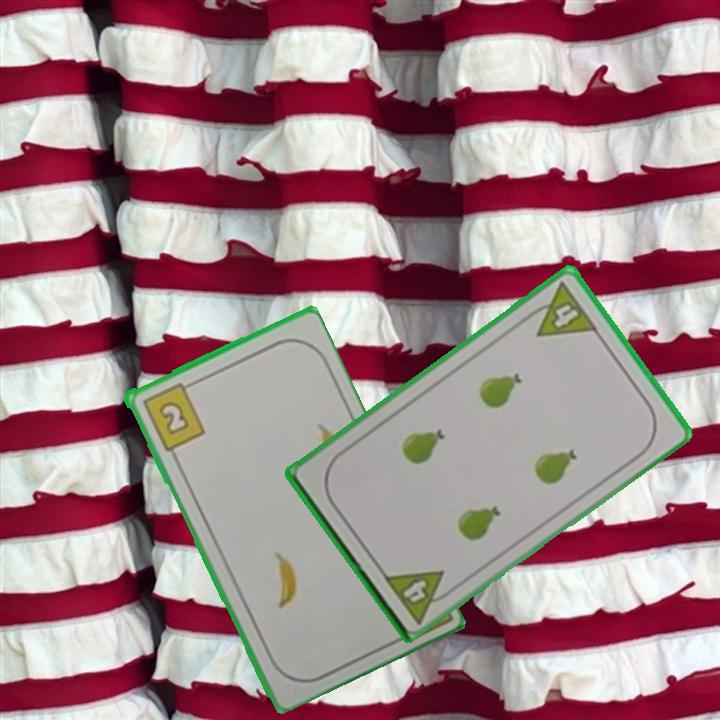2b: (138, 378, 207, 454)
4p: (521, 278, 601, 340), (379, 566, 458, 626)
